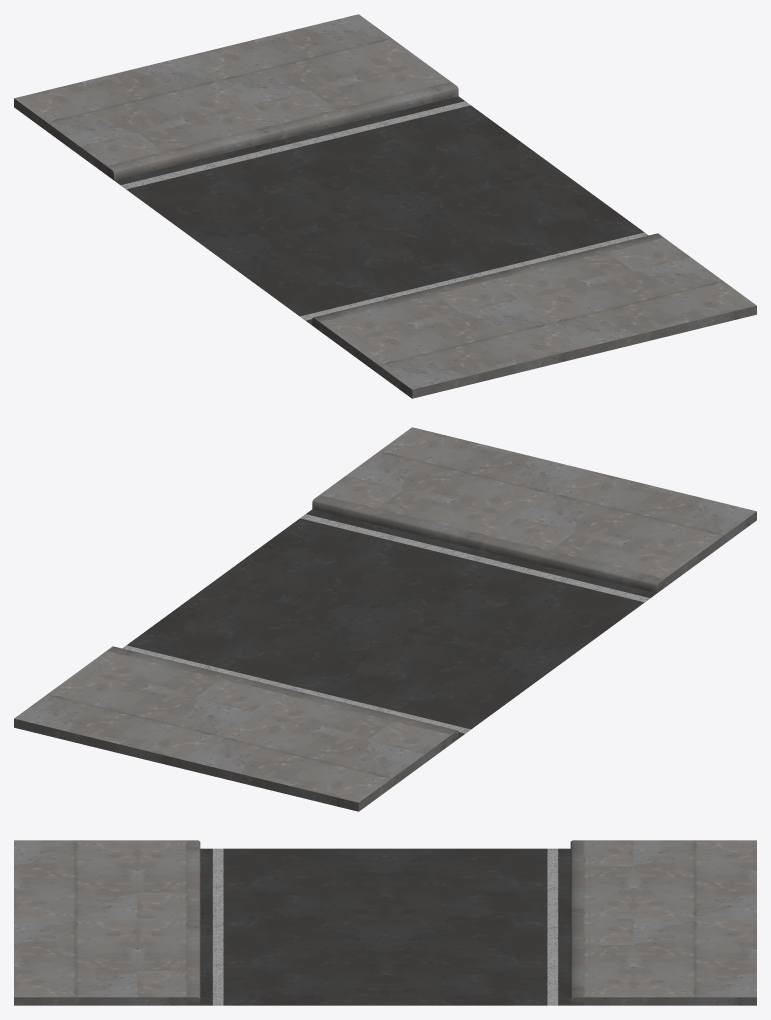
3 renders of one model, top to bottom at view 1: azimuth 30°, elevation 25°; view 2: azimuth 150°, elevation 25°; view 3: azimuth 270°, elevation 25°, orthographic. The views are drawn at different scales.
Visible parts, largest first — view 1: Street_2Lane; view 2: Street_2Lane; view 3: Street_2Lane.
Boxes of the visible parts, bbox=[...] form: Street_2Lane: bbox=[14, 14, 756, 398]; Street_2Lane: bbox=[14, 427, 756, 811]; Street_2Lane: bbox=[14, 840, 756, 1005].
Bounding box in the file's own units: 6 × 0.15 × 12.
3 materials, 3 textured.
